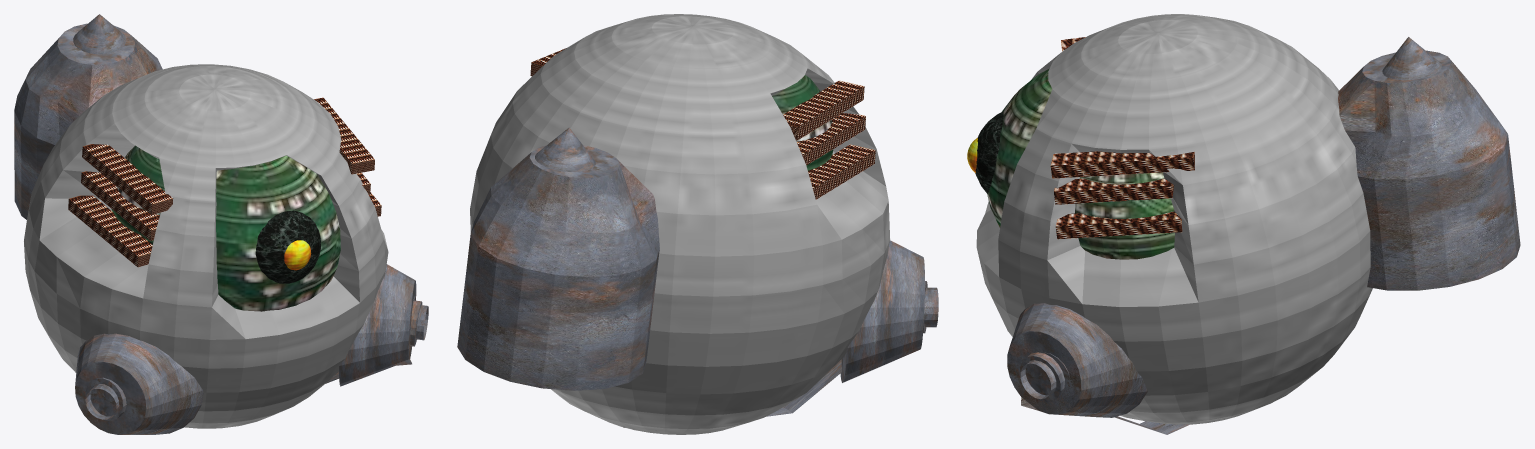
The model's file is RobotHover.FBX.
The picture shows the model from 3 angles, left to right: view 1: azimuth 30°, elevation 25°; view 2: azimuth 150°, elevation 25°; view 3: azimuth 270°, elevation 25°; orthographic projection. The views are drawn at different scales.
Parts seen in each view (by area): view 1: Sphere001; view 2: Sphere001; view 3: Sphere001.
Part boxes in pixels (x1,y1,x2,y2): Sphere001: [14, 14, 428, 434]; Sphere001: [457, 14, 938, 434]; Sphere001: [967, 14, 1520, 434].
Size of the model in its own units: 34.34 by 32 by 43.18.
